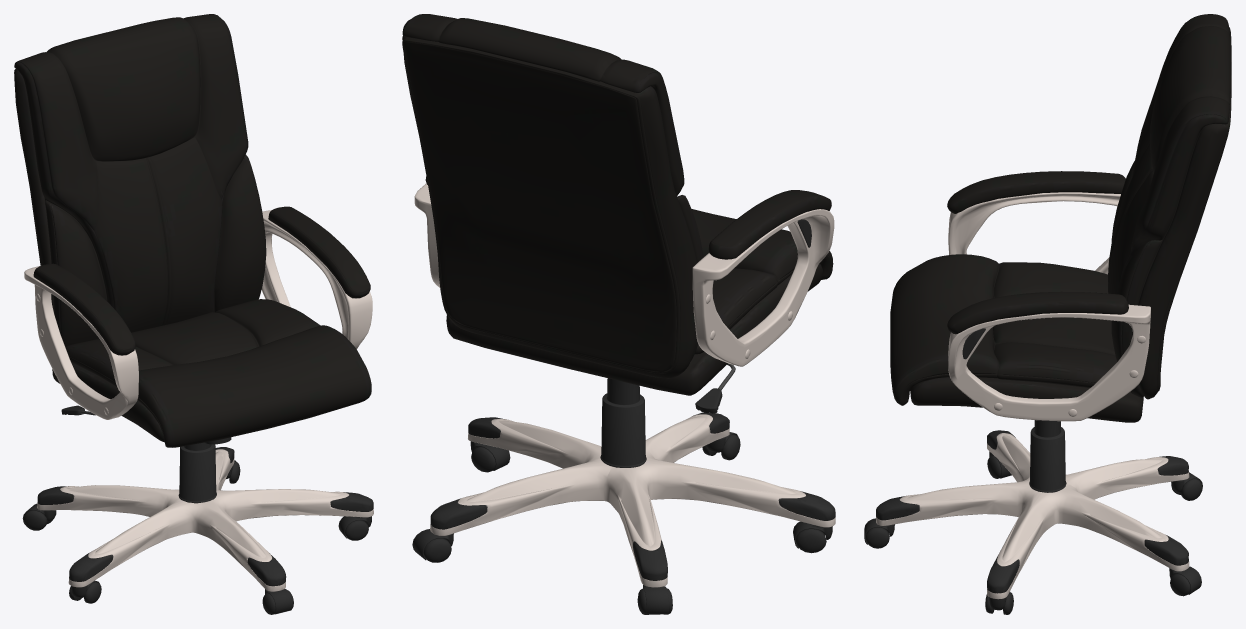
The model's file is abo-B016ID2V5O.glb.
3 views of the same model, side by side, from view 1: azimuth 30°, elevation 25°; view 2: azimuth 150°, elevation 25°; view 3: azimuth 270°, elevation 25° (orthographic). The views are drawn at different scales.
Bounding box in the file's own units: 0.78 × 1.14 × 0.78.
1 material, 1 textured.
